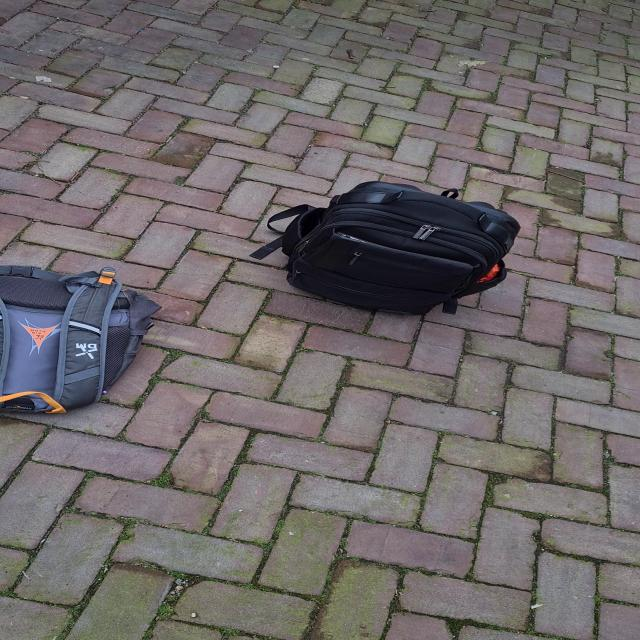backpack: (270, 178, 529, 322), (0, 261, 162, 419)
